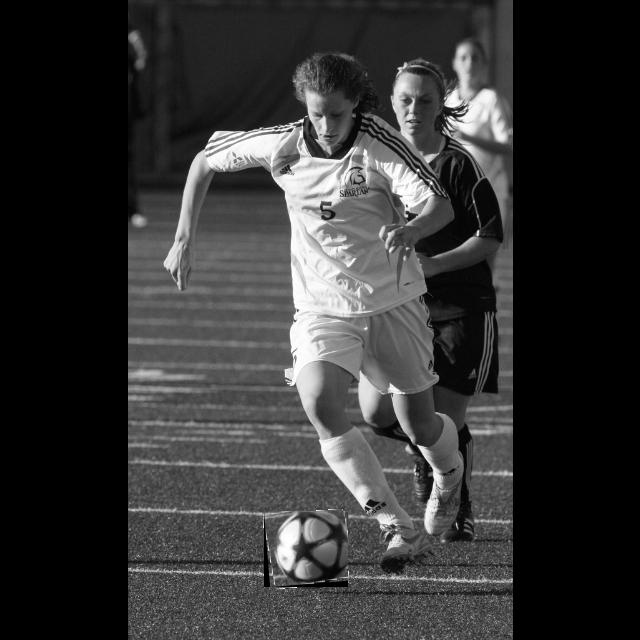Football: (264, 511, 348, 587)
